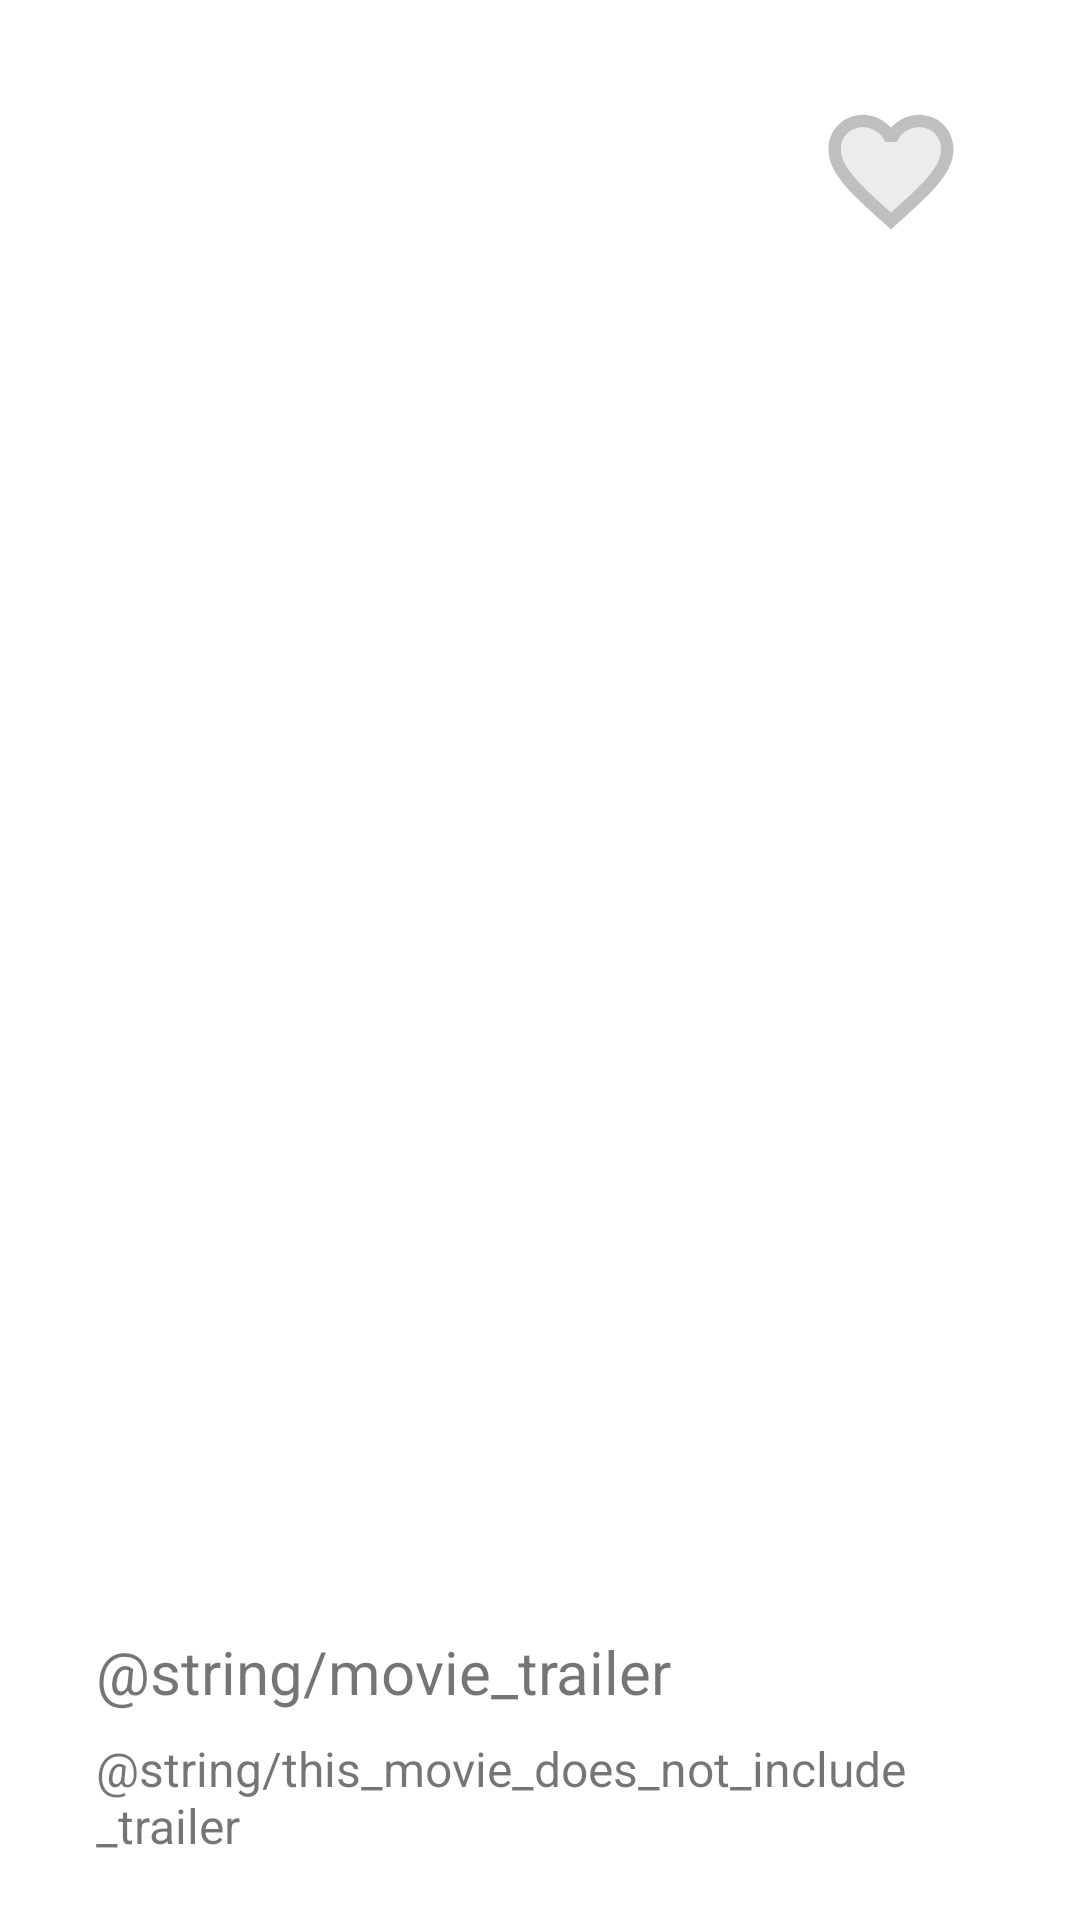

Point at icon controls on the screen. Image size 1080 x 1920, points as (x,y).
unfavorite: (891,172)
